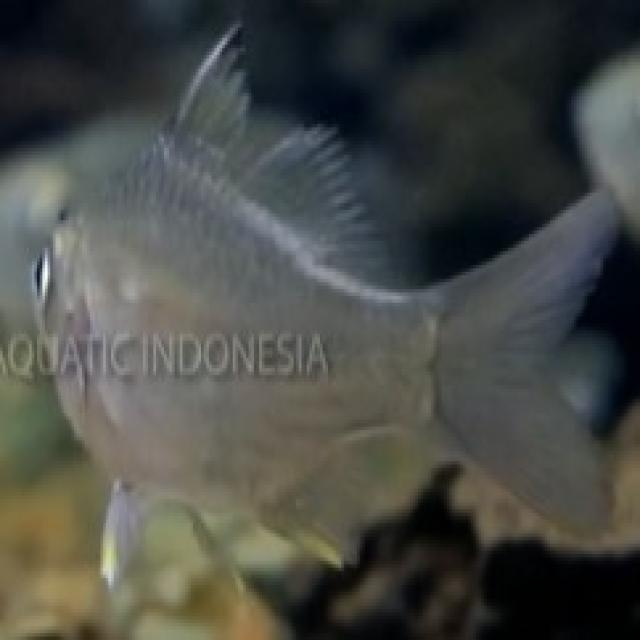Glass-Perchlet: (7, 34, 616, 594)
